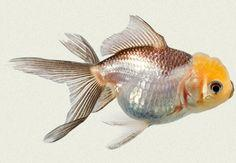goldfish: (26, 20, 235, 147)
